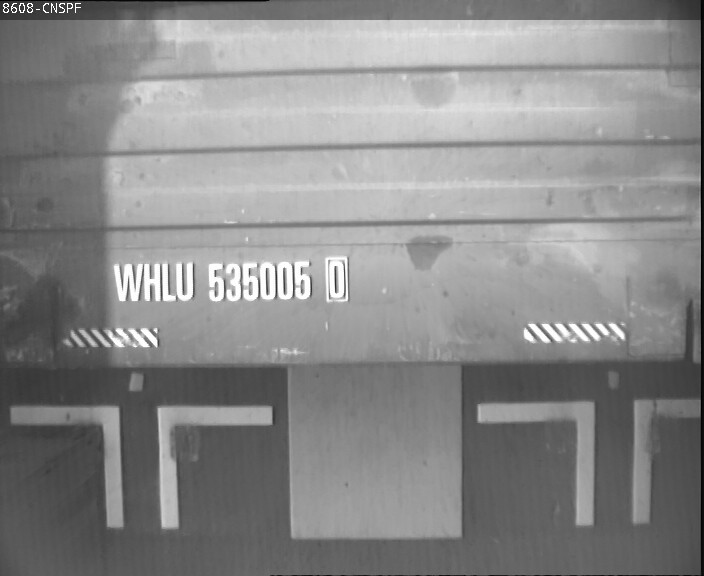groundmarker_1: (9, 397, 272, 530), (476, 398, 704, 529)
